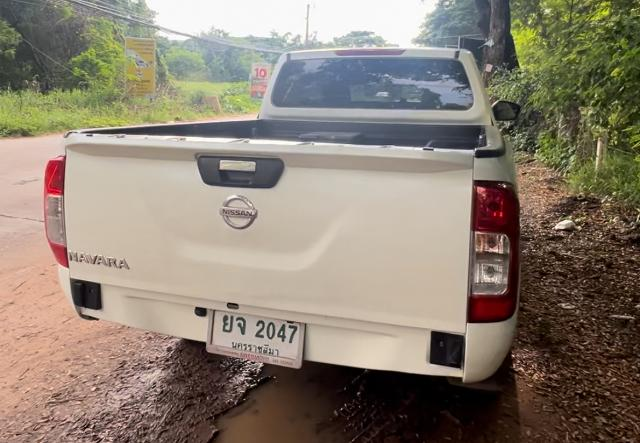pickup-truck: (38, 38, 529, 406)
